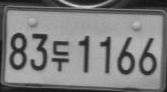1: (75, 34, 95, 73), (97, 35, 116, 73)
3: (29, 33, 48, 71)
6: (138, 36, 158, 76), (116, 36, 136, 75)
8: (8, 31, 27, 70)
두: (50, 40, 70, 72)
